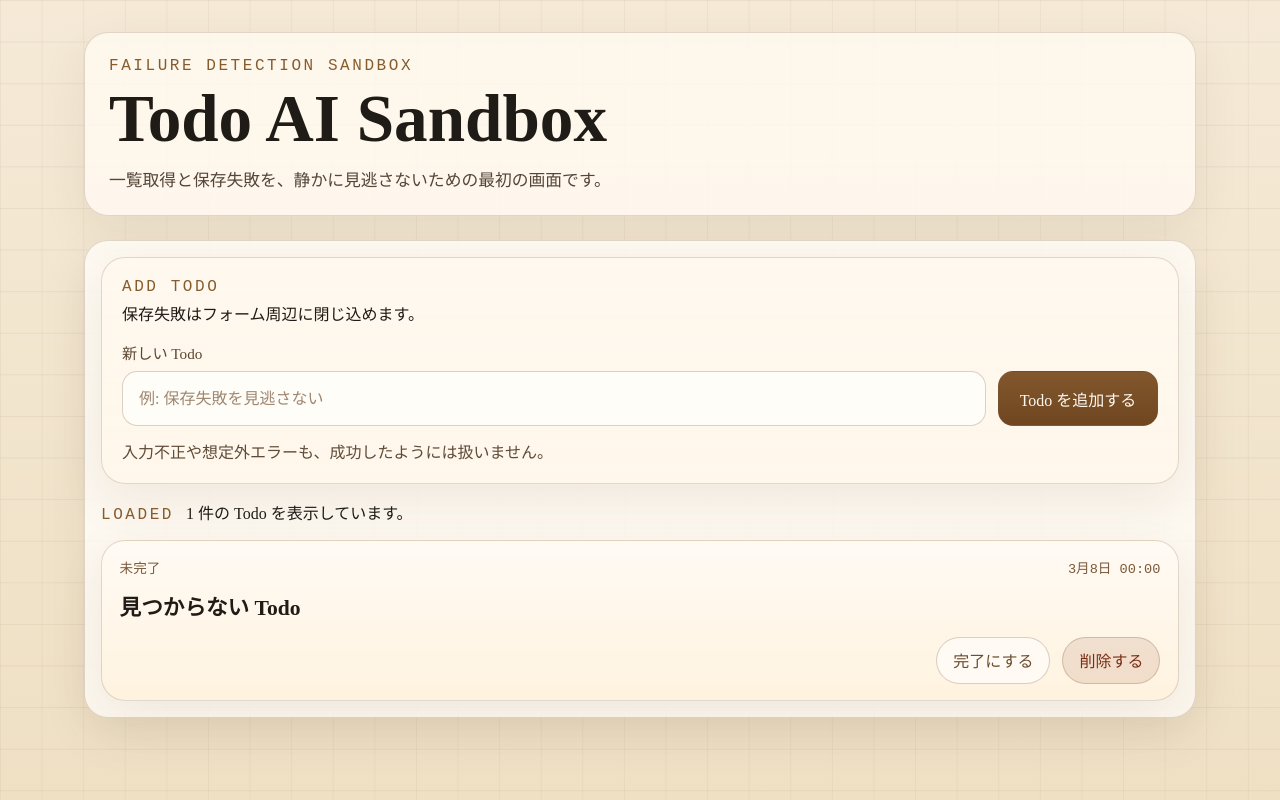
Scenario: App › 完了切り替えが 404 で失敗したときは対象行に失敗表示を出し、状態は変えない
This screenshot has width=1280, height=800.
Expected: the heading "見つからない Todo" is shown, [120,596,301,620]
Click the button "完了にする": (993, 660) [936,637,1050,684]
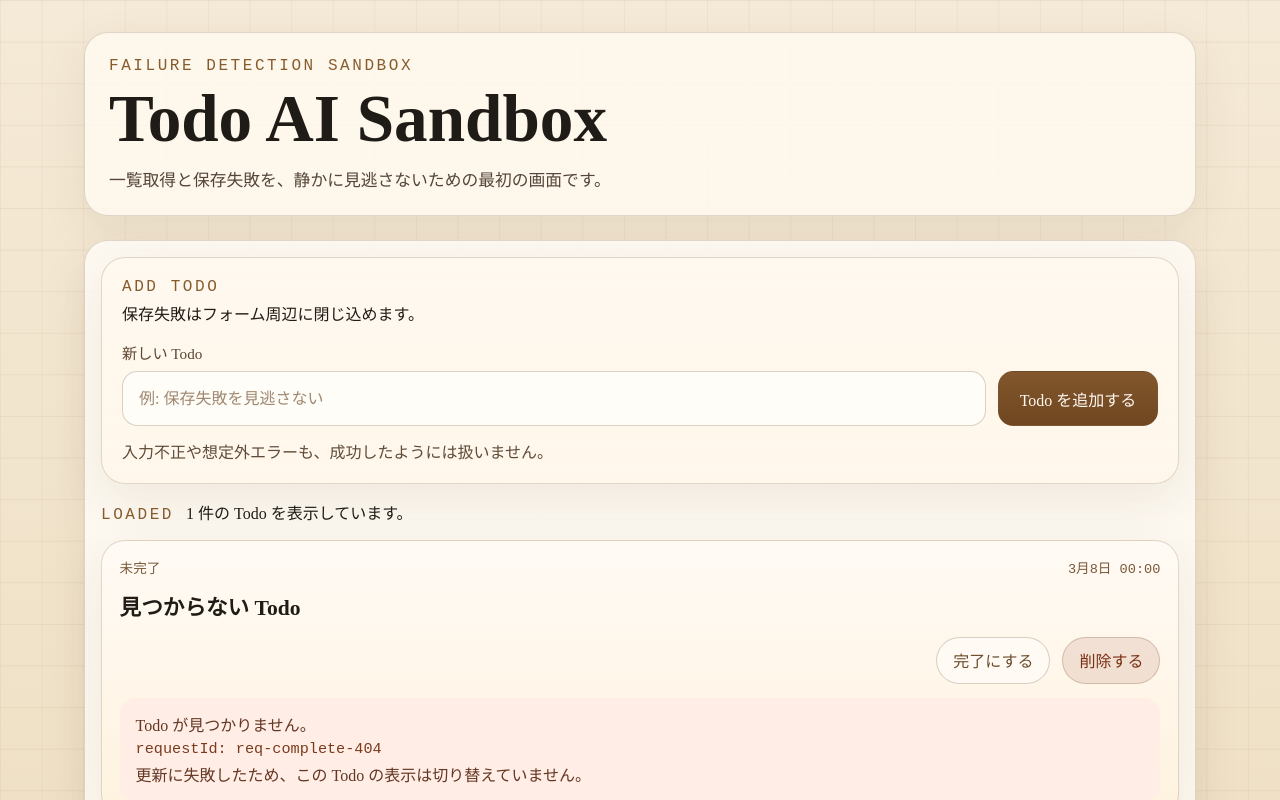
Now the text "Todo が見つかりません。" is shown, box [136,717,316,734]
Now the text "requestId: req-complete-404" is shown, box [136,740,382,758]
Now the text "更新に失敗したため、この Todo の表示は切り替えていません。" is shown, box [136,767,591,784]
